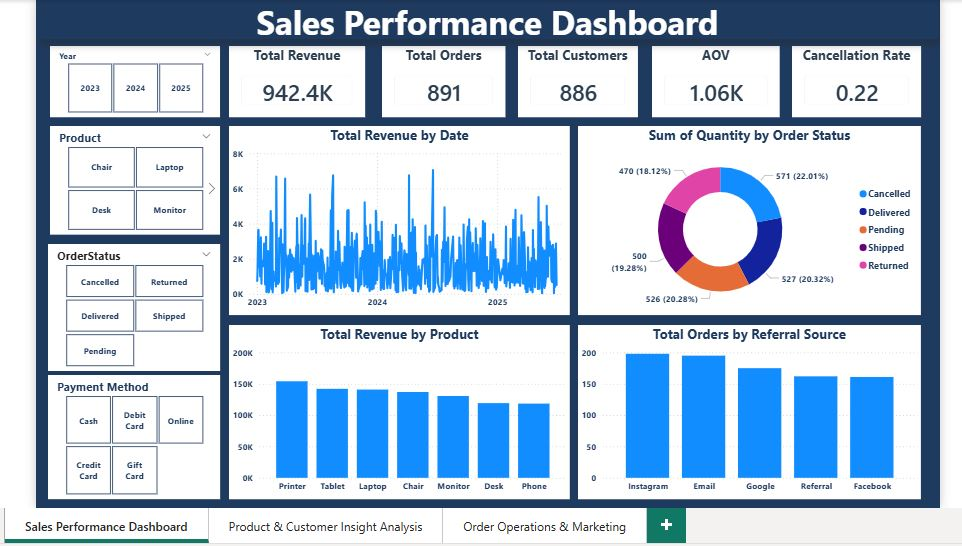

This screenshot's page, from the dashboard's own definition file:
{"tool":"powerbi","page":{"name":"Sales Performance Dashboard","canvas":[1280,720],"ordinal":0},"visuals":[{"type":"cardVisual","title":"Total Revenue","fields":{"Data":["DecodeLab Project 4.Total Revenue"]},"box":[273.5,65.2,192.8,100.6],"z":0},{"type":"cardVisual","title":"Cancellation Rate","fields":{"Data":["DecodeLab Project 4.Cancellation Rate"]},"box":[1071.7,65.5,183.1,100.8],"z":1000},{"type":"cardVisual","title":"Total Customers","fields":{"Data":["DecodeLab Project 4.Total Customers"]},"box":[683.7,65.5,169.7,100.8],"z":2000},{"type":"cardVisual","title":"Total Orders","fields":{"Data":["DecodeLab Project 4.Total Orders"]},"box":[490.5,65.5,174.7,100.8],"z":3000},{"type":"cardVisual","title":"AOV","fields":{"Data":["DecodeLab Project 4.AOV"]},"box":[873.5,65.5,181.4,100.8],"z":4000},{"type":"lineChart","fields":{"Y":["DecodeLab Project 4.Total Revenue"],"Category":["DecodeLab Project 4.Date.Variation.Date Hierarchy.Year"]},"box":[273.5,178.6,483.3,267.9],"z":5000},{"type":"donutChart","title":"Sum of Quantity by Order Status","fields":{"Category":["DecodeLab Project 4.OrderStatus"],"Y":["Sum(DecodeLab Project 4.Quantity)"]},"box":[768.2,178.6,486.1,267.9],"z":6000},{"type":"columnChart","fields":{"Category":["DecodeLab Project 4.Product"],"Y":["DecodeLab Project 4.Total Revenue"]},"box":[273.5,460.6,483.3,246.6],"z":7000},{"type":"columnChart","title":"Total Orders by Referral Source","fields":{"Category":["DecodeLab Project 4.ReferralSource"],"Y":["DecodeLab Project 4.Total Orders"]},"box":[768.2,460.6,486.1,246.6],"z":8000},{"type":"slicer","fields":{"Values":["DecodeLab Project 4.Product"]},"box":[19.8,178.6,240.9,154.5],"z":9000},{"type":"slicer","fields":{"Values":["DecodeLab Project 4.PaymentMethod"]},"box":[17,531.5,243.8,175.7],"z":10000},{"type":"slicer","fields":{"Values":["DecodeLab Project 4.OrderStatus"]},"box":[17,345.8,243.8,180],"z":11000},{"type":"slicer","fields":{"Values":["DateTable.Year"]},"box":[19.8,65.2,240.9,100.6],"z":12000},{"type":"actionButton","title":"Sales Performance Dashboard","box":[0,0,1279.8,55.3],"z":13000}]}

Visuals, with their boxes in screenshot pixels (x1, y1, x2, y2):
"Total Revenue" cardVisual: [x1=218, y1=42, x2=356, y2=114]
"Cancellation Rate" cardVisual: [x1=789, y1=42, x2=920, y2=114]
"Total Customers" cardVisual: [x1=511, y1=42, x2=633, y2=114]
"Total Orders" cardVisual: [x1=373, y1=42, x2=498, y2=114]
"AOV" cardVisual: [x1=647, y1=42, x2=777, y2=114]
lineChart - DecodeLab Project 4.Total Revenue x DecodeLab Project 4.Date.Variation.Date Hierarchy.Year: [x1=218, y1=123, x2=564, y2=314]
"Sum of Quantity by Order Status" donutChart: [x1=572, y1=123, x2=919, y2=314]
columnChart - DecodeLab Project 4.Product x DecodeLab Project 4.Total Revenue: [x1=218, y1=324, x2=564, y2=501]
"Total Orders by Referral Source" columnChart: [x1=572, y1=324, x2=919, y2=501]
slicer - DecodeLab Project 4.Product: [x1=37, y1=123, x2=209, y2=233]
slicer - DecodeLab Project 4.PaymentMethod: [x1=35, y1=375, x2=209, y2=501]
slicer - DecodeLab Project 4.OrderStatus: [x1=35, y1=242, x2=209, y2=371]
slicer - DateTable.Year: [x1=37, y1=42, x2=209, y2=114]
"Sales Performance Dashboard" actionButton: [x1=23, y1=0, x2=937, y2=35]
